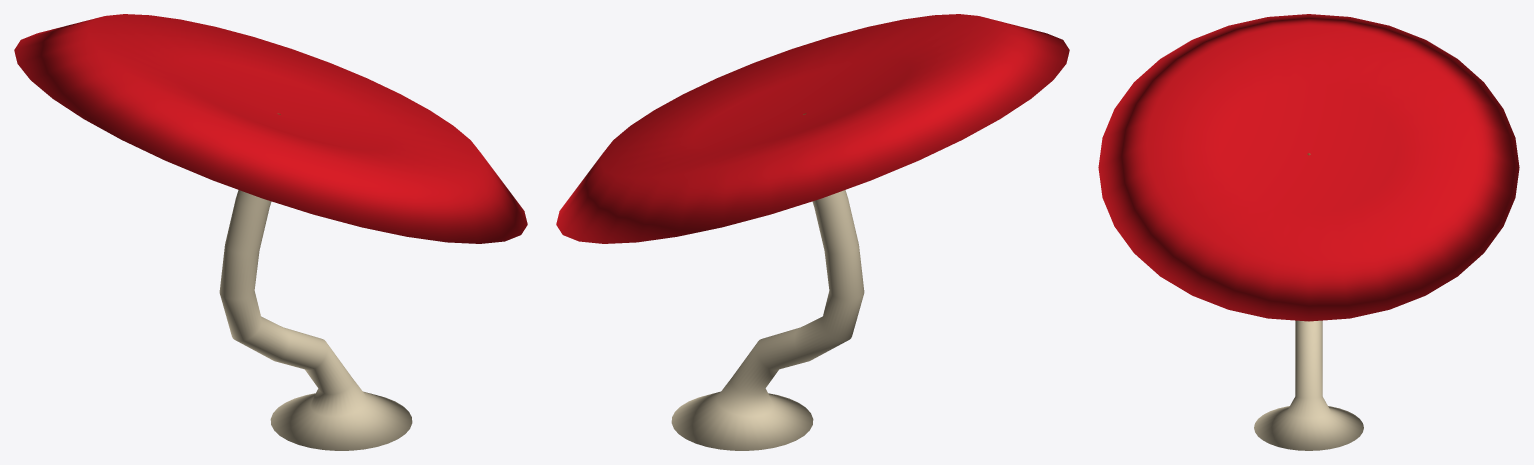
The model's file is champi34.fbx.
3 renders of one model, left to right at view 1: azimuth 30°, elevation 25°; view 2: azimuth 150°, elevation 25°; view 3: azimuth 270°, elevation 25°, orthographic. The views are drawn at different scales.
Parts seen in each view (by area): view 1: Cone; view 2: Cone; view 3: Cone.
Part boxes in pixels (x1=…): Cone: x1=14, y1=14, x2=527, y2=450; Cone: x1=556, y1=14, x2=1069, y2=450; Cone: x1=1098, y1=14, x2=1519, y2=450.
Bounding box in the file's own units: 74.22 × 66.54 × 80.
